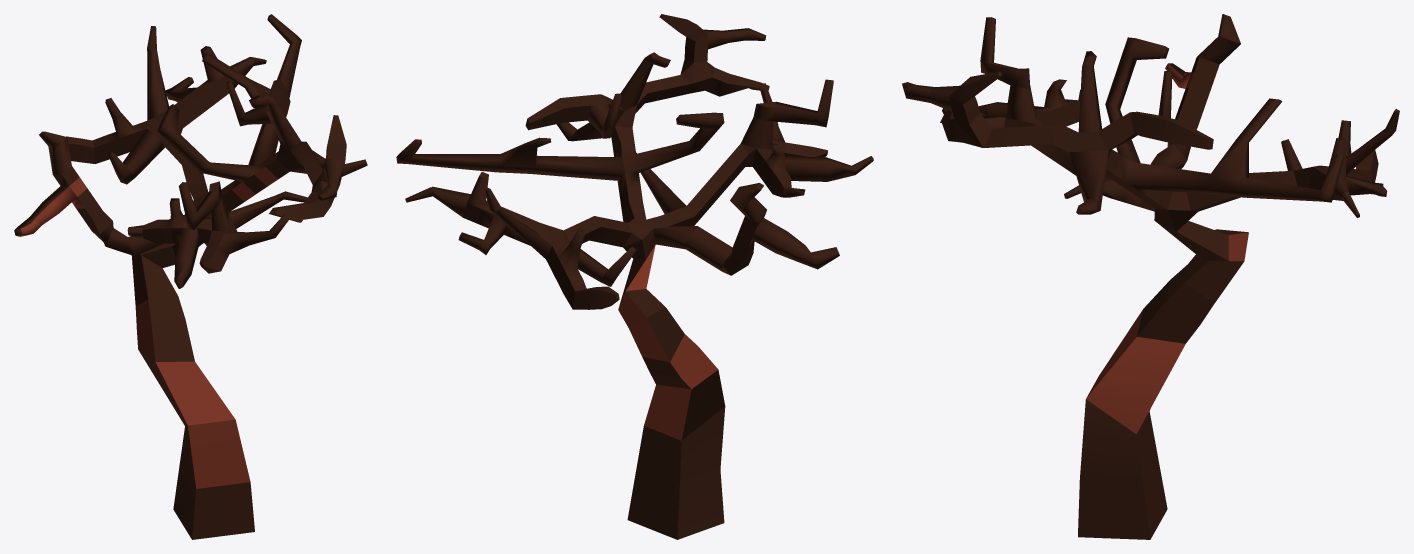
The model's file is tree_wala_dahon.fbx.
3 views of the same model, side by side, from view 1: azimuth 30°, elevation 25°; view 2: azimuth 150°, elevation 25°; view 3: azimuth 270°, elevation 25° (orthographic). The views are drawn at different scales.
Parts seen in each view (by area): view 1: Cube; view 2: Cube; view 3: Cube.
Part boxes in pixels (left/top/right/bottom): Cube: left=14, top=14, right=367, bottom=539; Cube: left=396, top=14, right=873, bottom=539; Cube: left=902, top=14, right=1399, bottom=539.
Bounding box in the file's own units: 1285 × 1488 × 1370.
